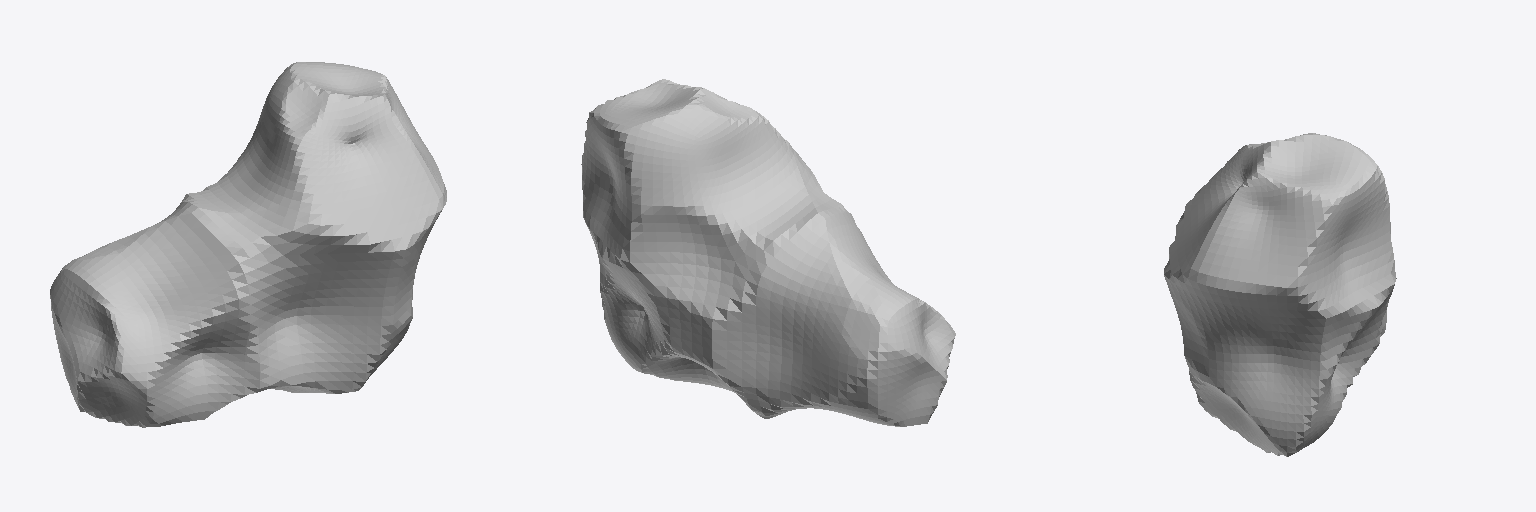
Rendered from scoglio-8.obj.
3 renders of one model, left to right at view 1: azimuth 30°, elevation 25°; view 2: azimuth 150°, elevation 25°; view 3: azimuth 270°, elevation 25°, orthographic.
Visible parts, largest first — view 1: Cube; view 2: Cube; view 3: Cube.
Boxes of the visible parts, box(x1,y1,x2,y2) form: Cube: box(50, 62, 446, 427); Cube: box(581, 79, 955, 426); Cube: box(1164, 133, 1396, 456).
Bounding box in the file's own units: 3.98 × 3.2 × 2.24.